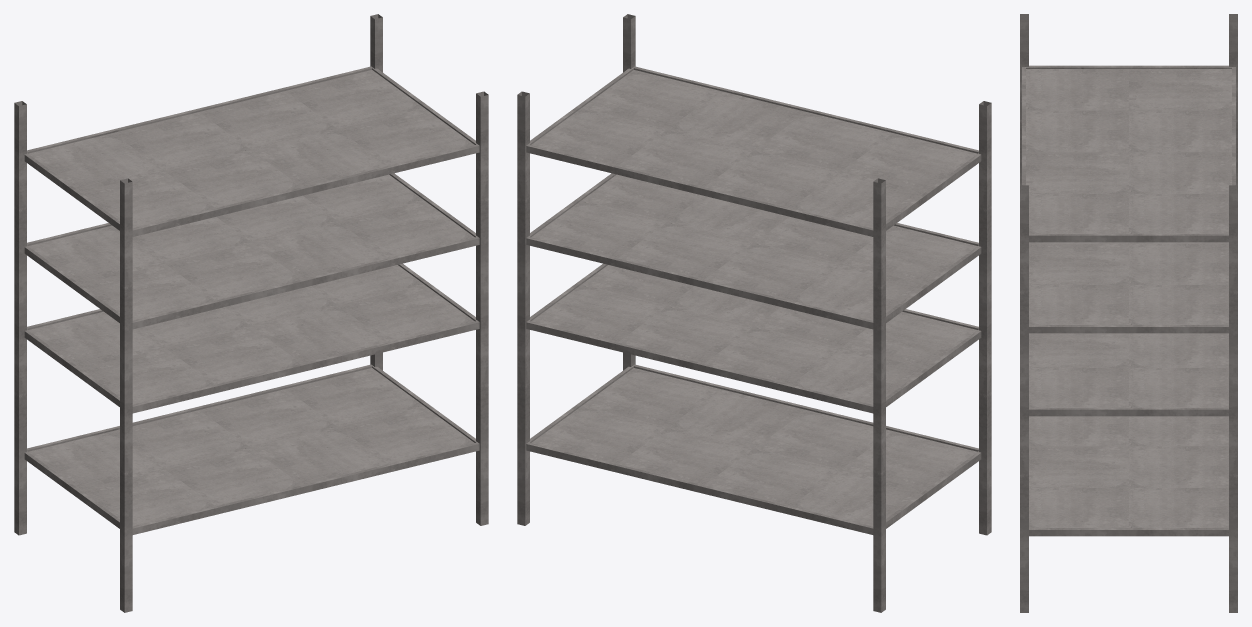
The model's file is Hanger.fbx.
3 views of the same model, side by side, from view 1: azimuth 30°, elevation 25°; view 2: azimuth 150°, elevation 25°; view 3: azimuth 270°, elevation 25° (orthographic).
Visible parts, largest first — view 1: Cube.012; view 2: Cube.012; view 3: Cube.012.
Part boxes in pixels (<box>): Cube.012: <box>14,14,488,612</box>; Cube.012: <box>517,14,991,612</box>; Cube.012: <box>1020,14,1237,612</box>.
Bounding box in the file's own units: 193 × 218 × 102.
